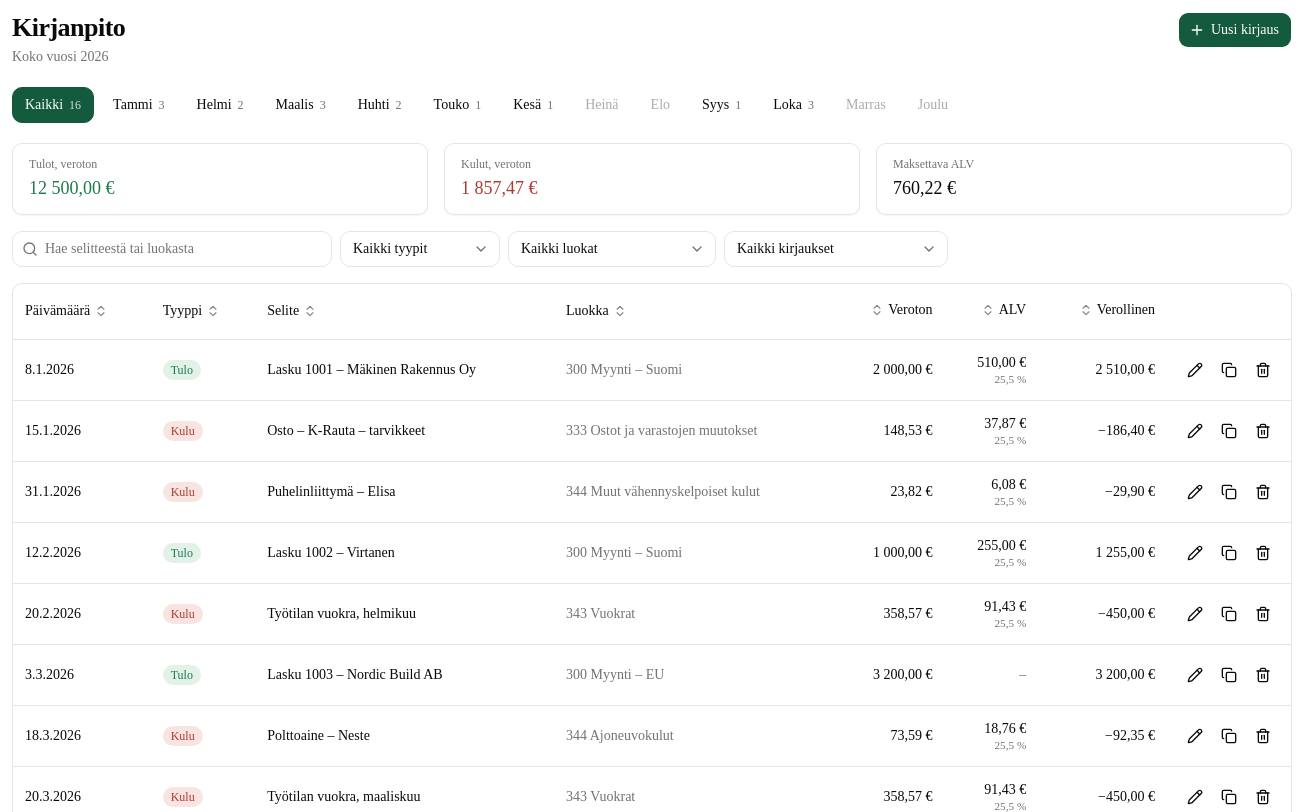
Test: LedgerView with the sample data › drops the toolbar on a month with no entries
Click the button "Marras" at [866, 104], box [833,86,899,122]
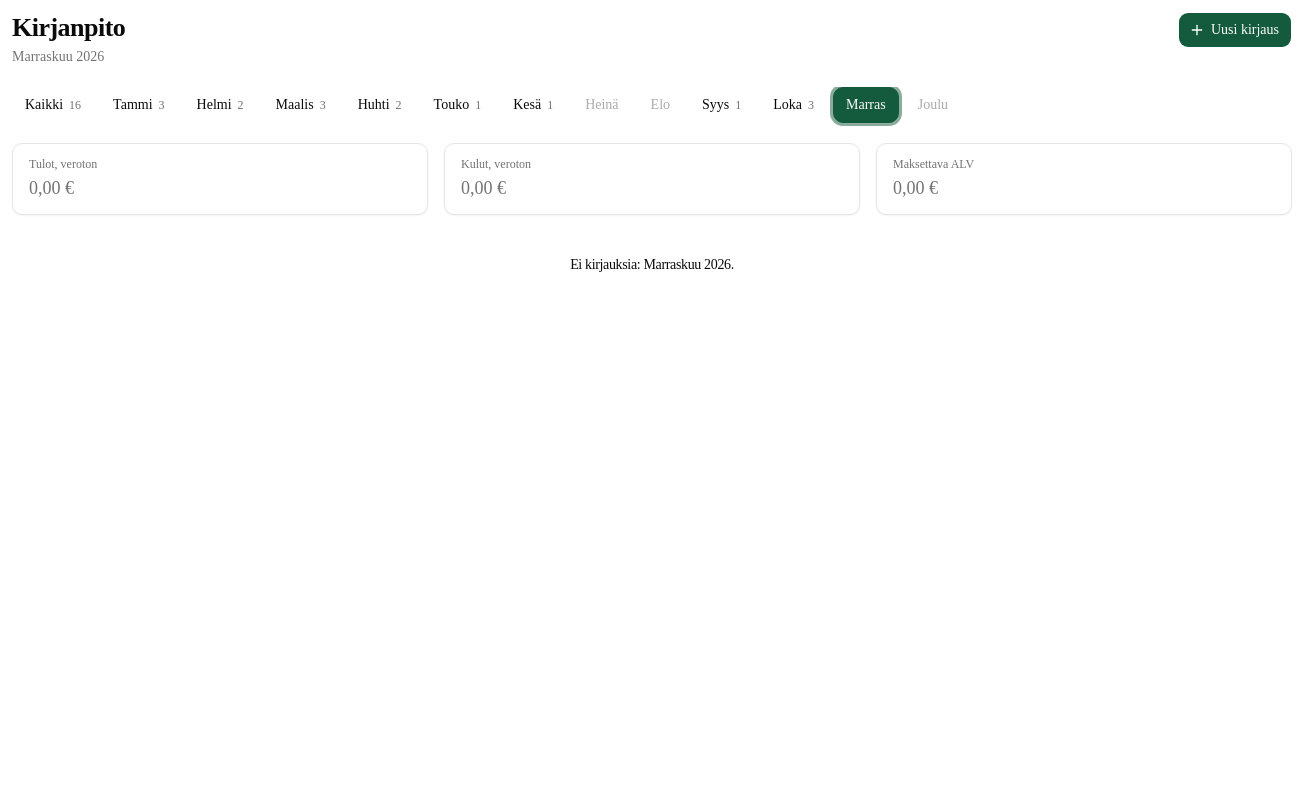
Check: the field labelled "Hae selitteestä tai luokasta" is not shown
Check: the text "Ei kirjauksia: Marraskuu 2026." is shown, box [570,254,734,274]
Check: the button "Tyyppi" is gone
